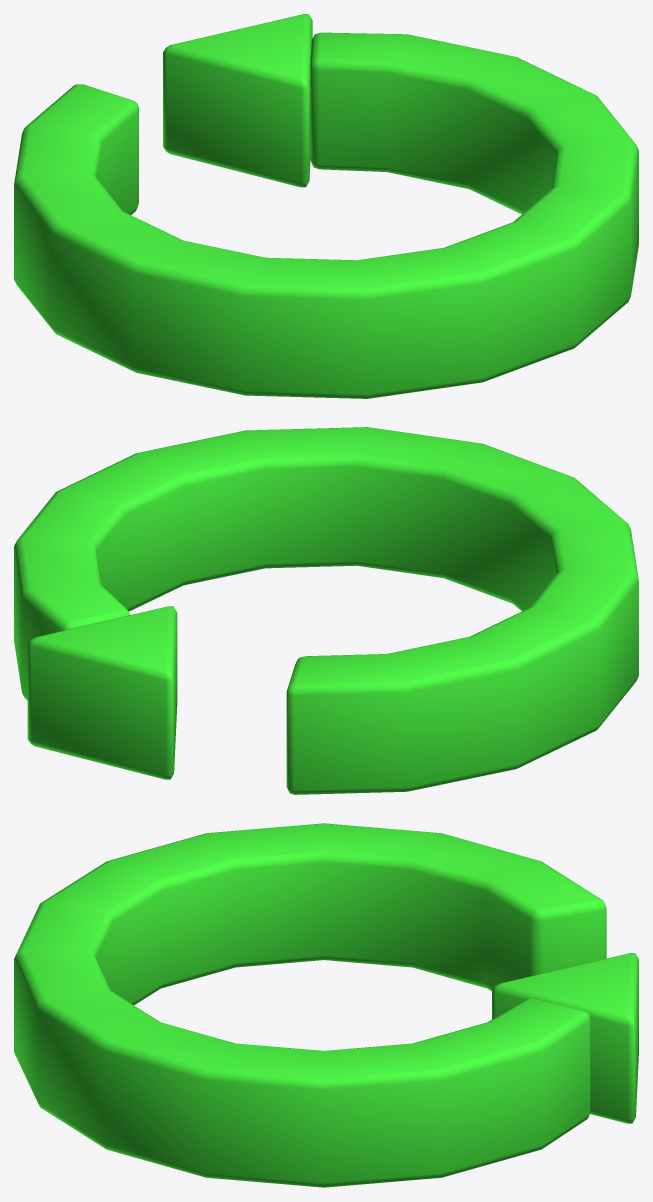
Rendered from HyperLevelItemsSketchfab.fbx.
3 renders of one model, top to bottom at view 1: azimuth 30°, elevation 25°; view 2: azimuth 150°, elevation 25°; view 3: azimuth 270°, elevation 25°, orthographic.
Visible parts, largest first — view 1: RotationMark; view 2: RotationMark; view 3: RotationMark.
Part boxes in pixels (x1,y1,x2,y2): RotationMark: (14, 14, 638, 398); RotationMark: (14, 427, 638, 794); RotationMark: (14, 823, 638, 1187).
Bounding box in the file's own units: 138 × 26.77 × 139.
